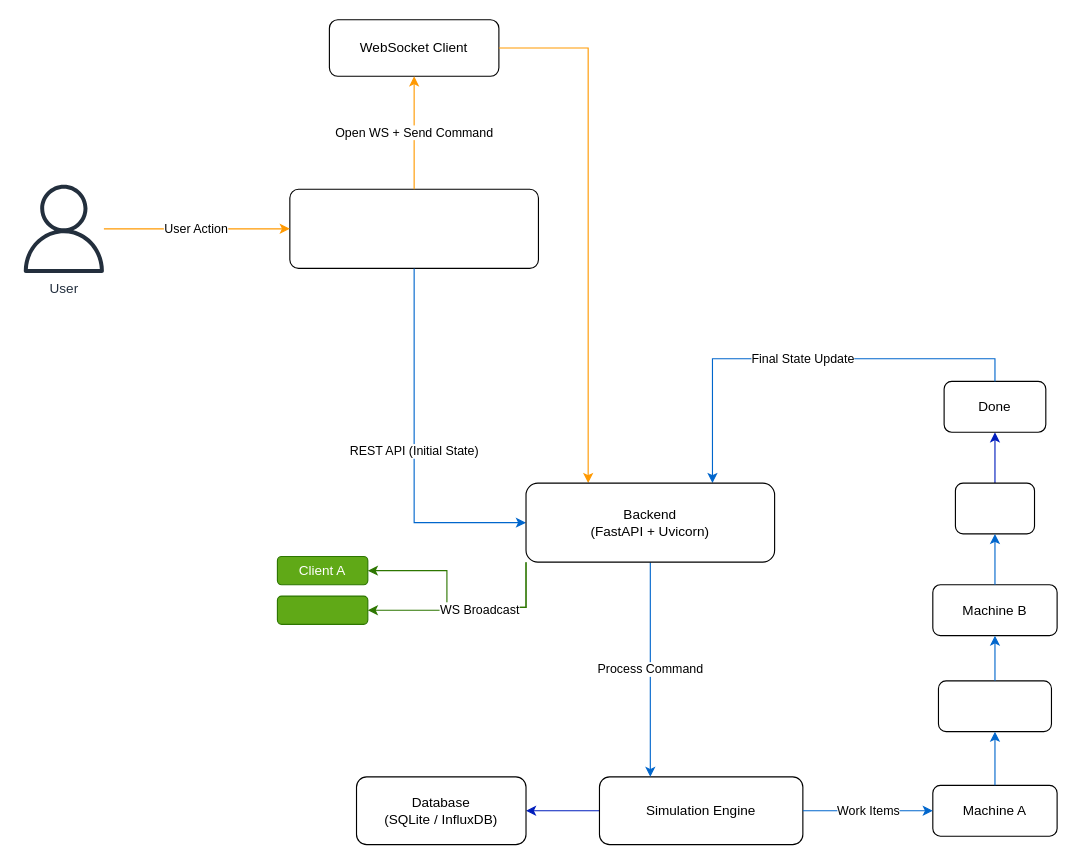
Image size: 1077x864. Some labels were removed from this diagram. The shapes that lost their labels are listed below. From the top down, each one's box as (x1, y1, x2, y2) in pixels, then its label:
(289, 188, 538, 268): Frontend (HTML/CSS/JS + Chart.js)
(954, 482, 1035, 534): QC
(276, 595, 368, 624): Client B
(937, 680, 1051, 732): Buffer
